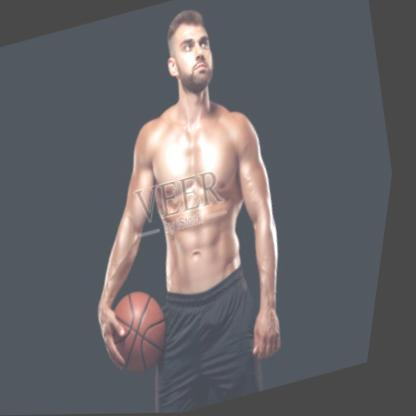basketball: (110, 286, 189, 378)
